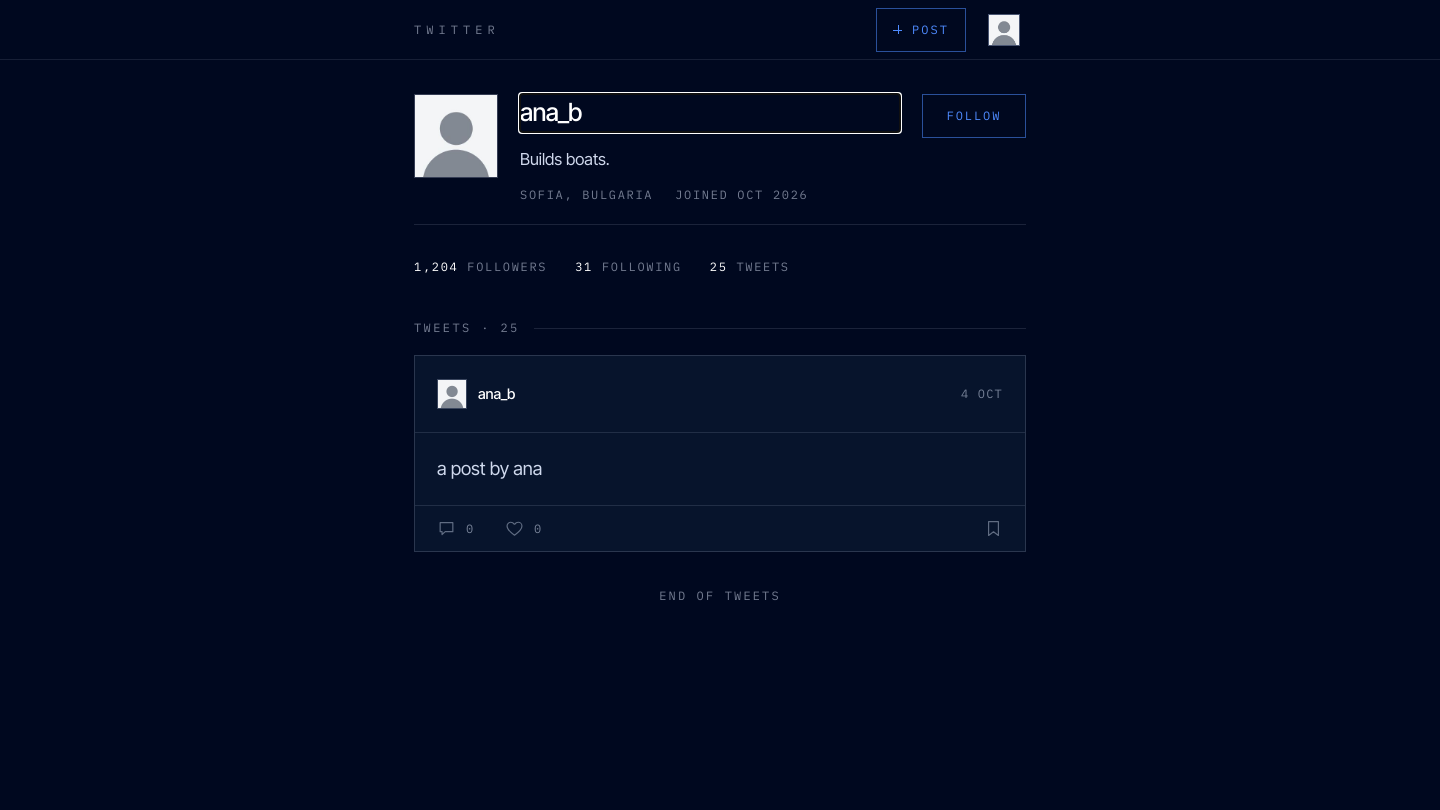
Test: the follower and following lists › should_open_the_people_the_profile_follows_when_the_following_stat_is_pressed
The width and height of the screenshot is (1440, 810).
Click the button "31 FOLLOWING".
click(628, 267)  # box x1=575 y1=245 x2=682 y2=289
Wait 1 ms
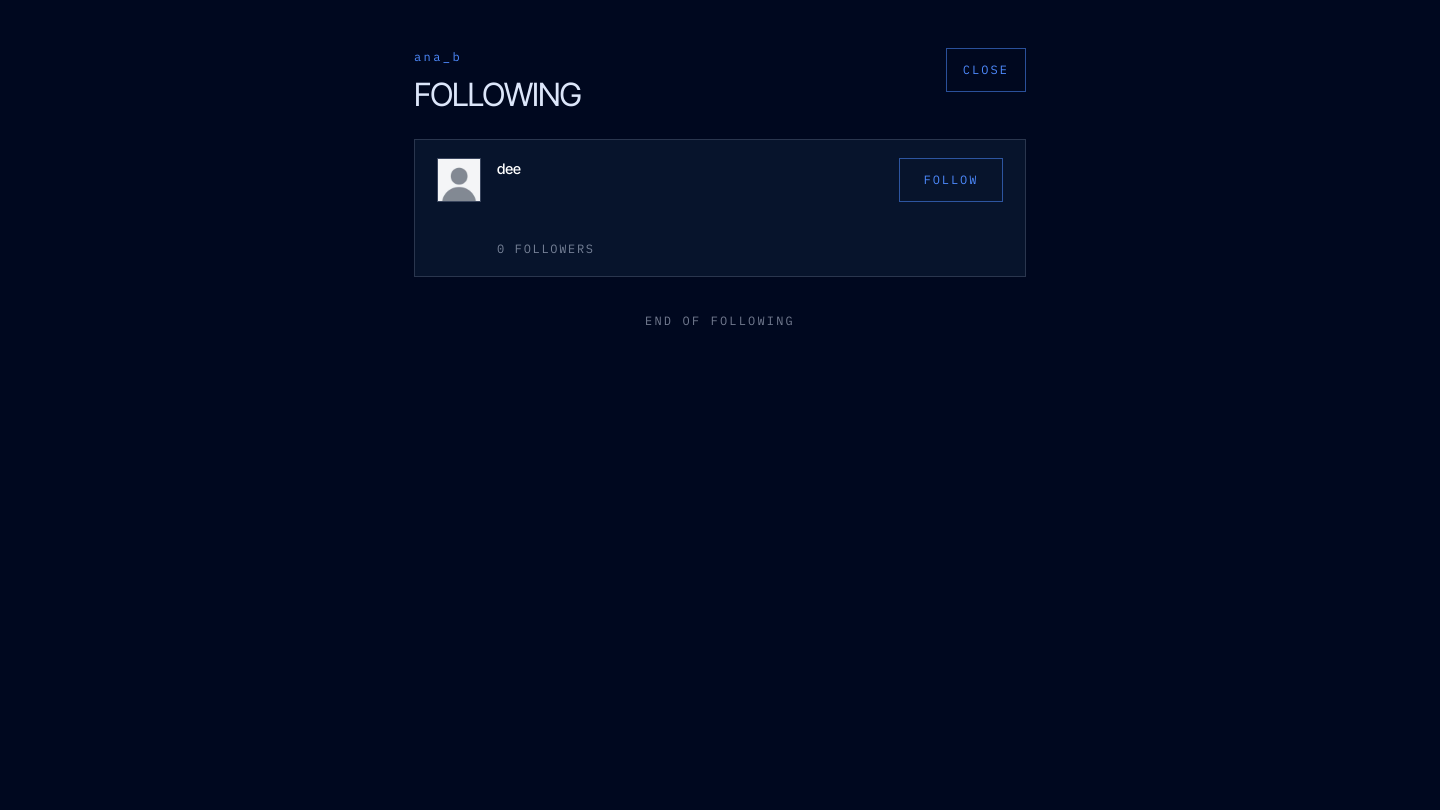
Expected: the heading "FOLLOWING" is shown, x1=414 y1=78 x2=581 y2=111
Expected: the link "dee" is shown, x1=497 y1=160 x2=521 y2=177
